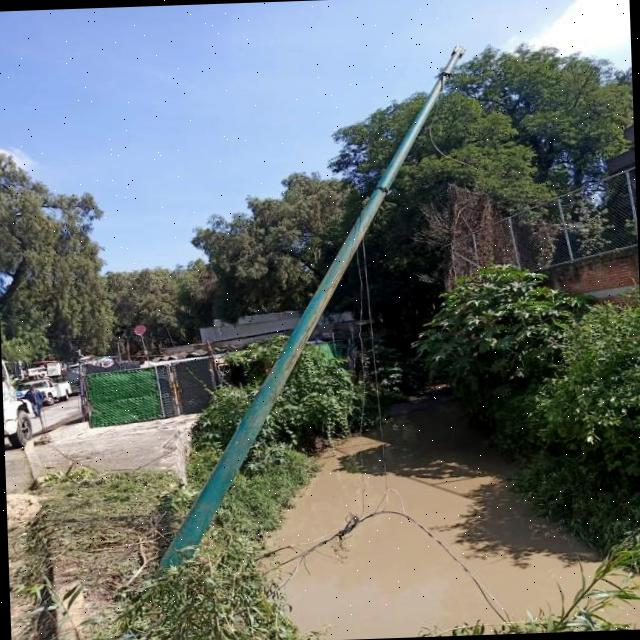Broken Pole: (134, 45, 482, 578)
